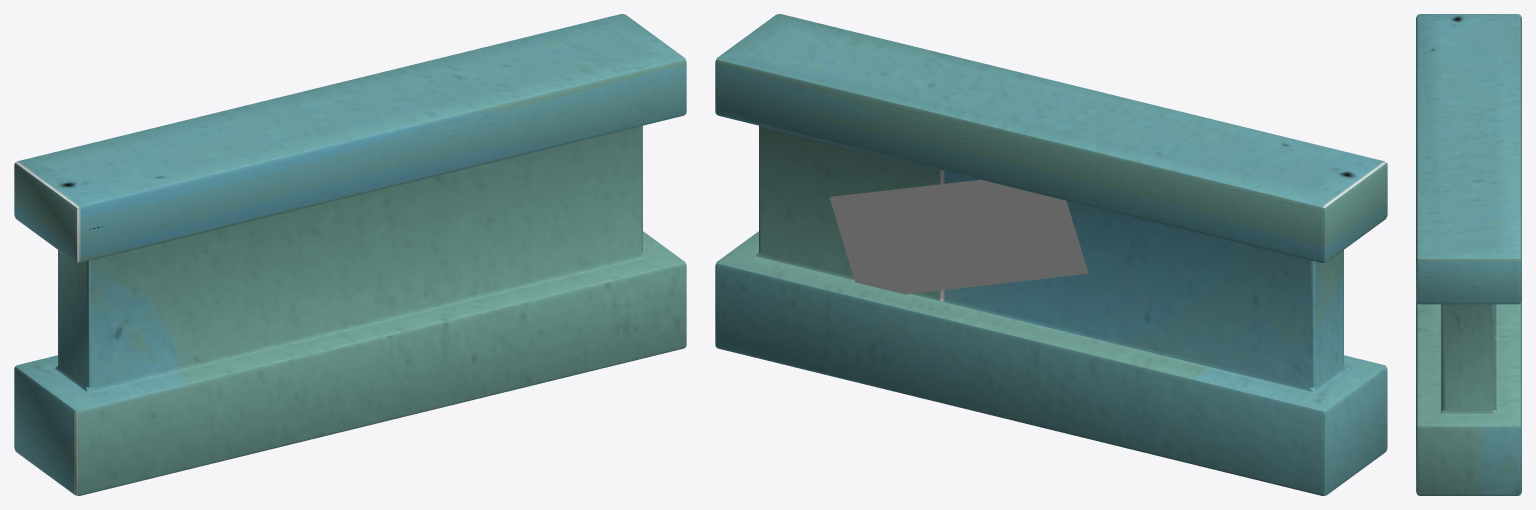
The model's file is TOMB_WALL_2_1_001.obj.
3 views of the same model, side by side, from view 1: azimuth 30°, elevation 25°; view 2: azimuth 150°, elevation 25°; view 3: azimuth 270°, elevation 25° (orthographic). The views are drawn at different scales.
Parts seen in each view (by area): view 1: TOMB_WALL_2_1_001; view 2: TOMB_WALL_2_1_001; view 3: TOMB_WALL_2_1_001.
Part boxes in pixels (<box>): TOMB_WALL_2_1_001: <box>14,14,686,495</box>; TOMB_WALL_2_1_001: <box>715,14,1387,495</box>; TOMB_WALL_2_1_001: <box>1416,14,1521,495</box>.
Bounding box in the file's own units: 2.2 × 1 × 0.4.
